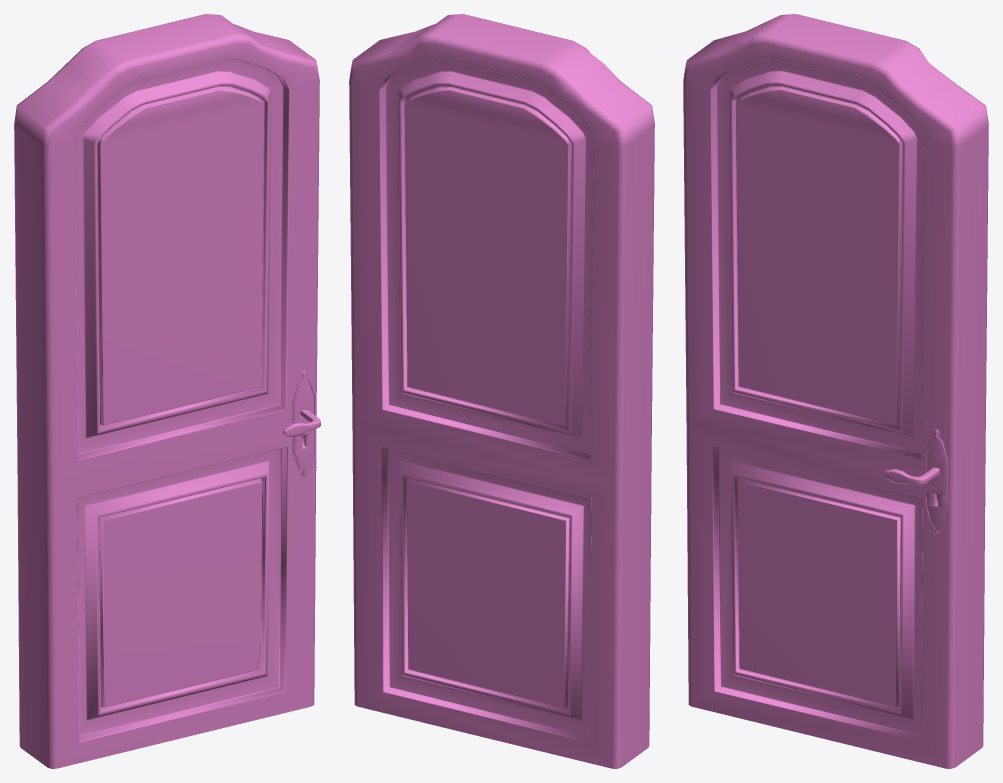
Rendered from ENV_HAU_DOOR_MODEL.fbx.
3 renders of one model, left to right at view 1: azimuth 30°, elevation 25°; view 2: azimuth 150°, elevation 25°; view 3: azimuth 330°, elevation 25°, orthographic.
Parts seen in each view (by area): view 1: ENV_HAU_DOOR_MODEL; view 2: ENV_HAU_DOOR_MODEL; view 3: ENV_HAU_DOOR_MODEL.
Part boxes in pixels (box(x1,y1,x2,y2)): ENV_HAU_DOOR_MODEL: box(14, 14, 320, 768); ENV_HAU_DOOR_MODEL: box(349, 14, 654, 768); ENV_HAU_DOOR_MODEL: box(683, 14, 988, 768).
Size of the model in its own units: 81.08 by 192 by 26.76.
